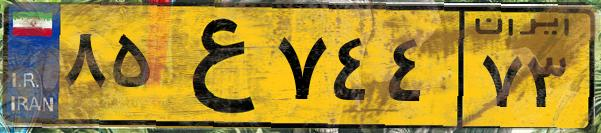3: (525, 38, 570, 115)
4: (385, 28, 445, 110), (330, 28, 385, 110)
5: (110, 28, 158, 98)
7: (270, 28, 330, 110), (475, 38, 525, 113)
8: (57, 26, 110, 100)
ع: (158, 12, 270, 120)
